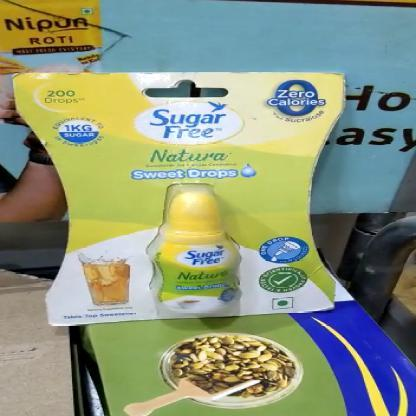SUGAR FREE NATURA SWEET DROPS: (14, 72, 342, 324)
